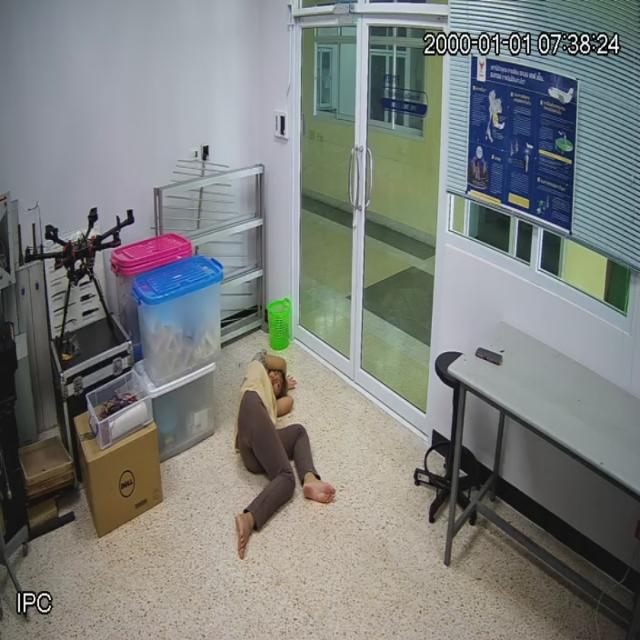fall: (227, 329, 341, 576)
